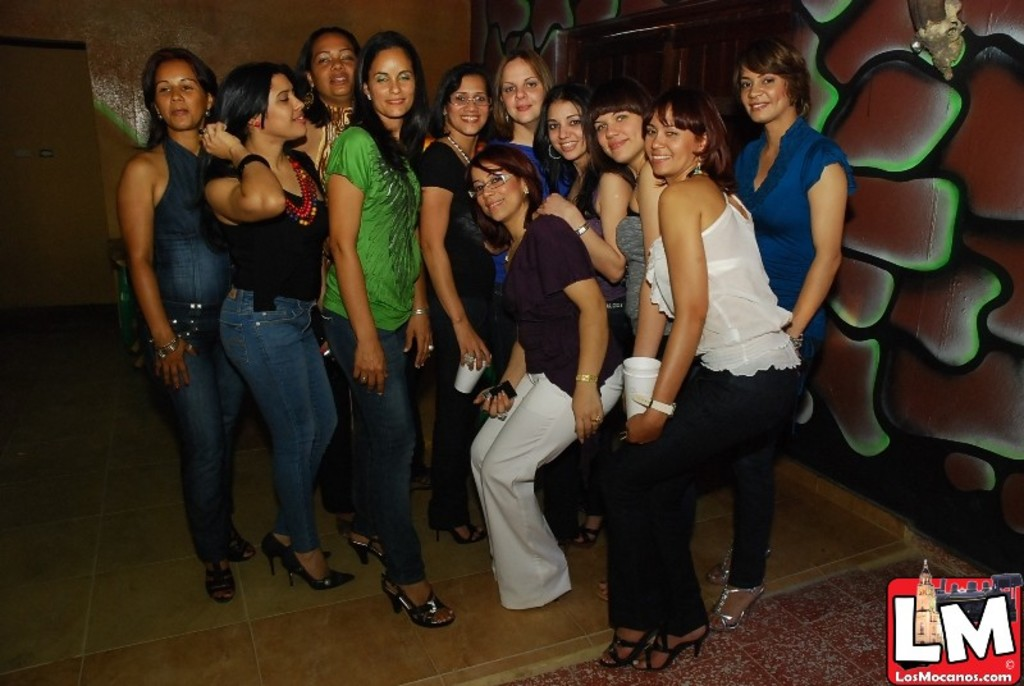Footwear: (383, 576, 457, 628), (634, 627, 712, 669), (709, 576, 763, 634), (714, 541, 773, 580), (287, 557, 353, 589), (598, 630, 652, 666), (202, 558, 234, 600), (435, 518, 483, 545), (567, 514, 603, 545), (352, 525, 376, 562), (266, 535, 283, 572), (230, 532, 251, 557), (343, 516, 357, 534)
